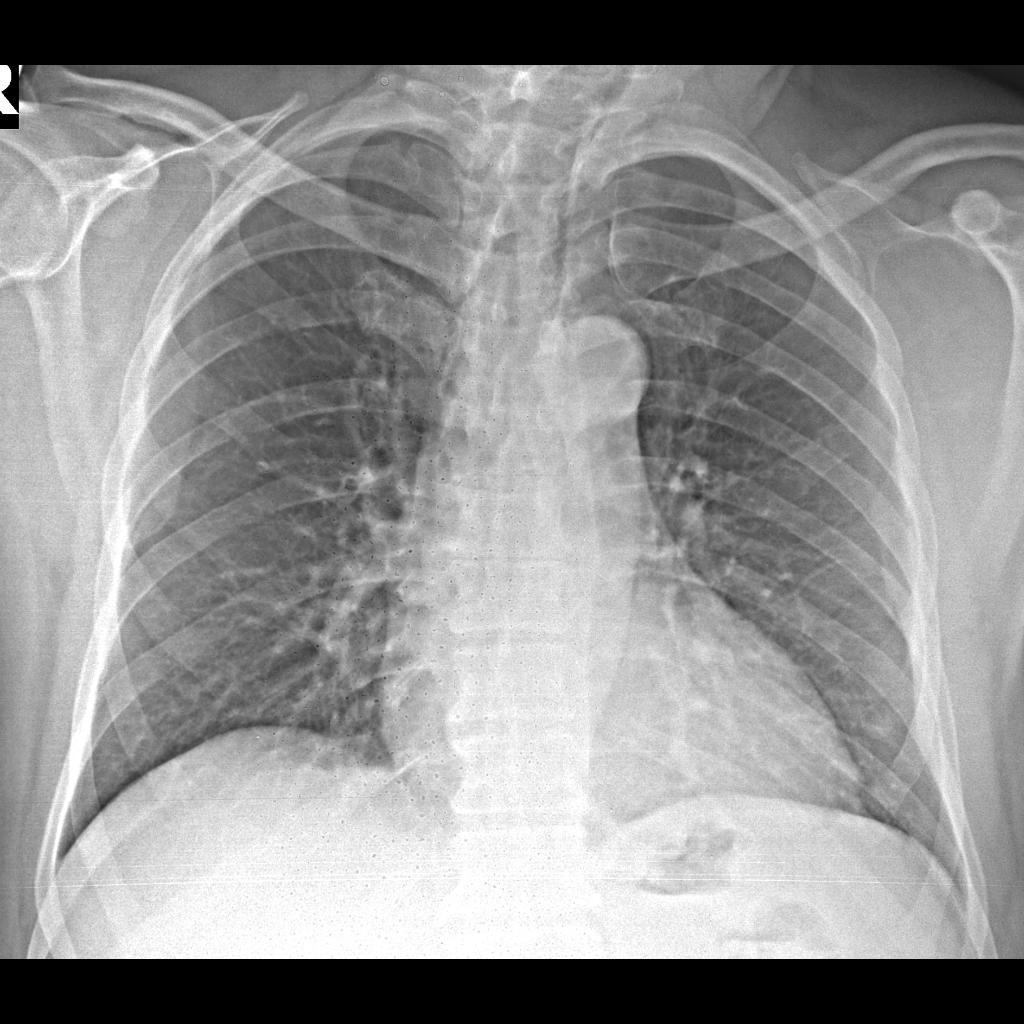Nodule: (856, 698, 900, 744)
